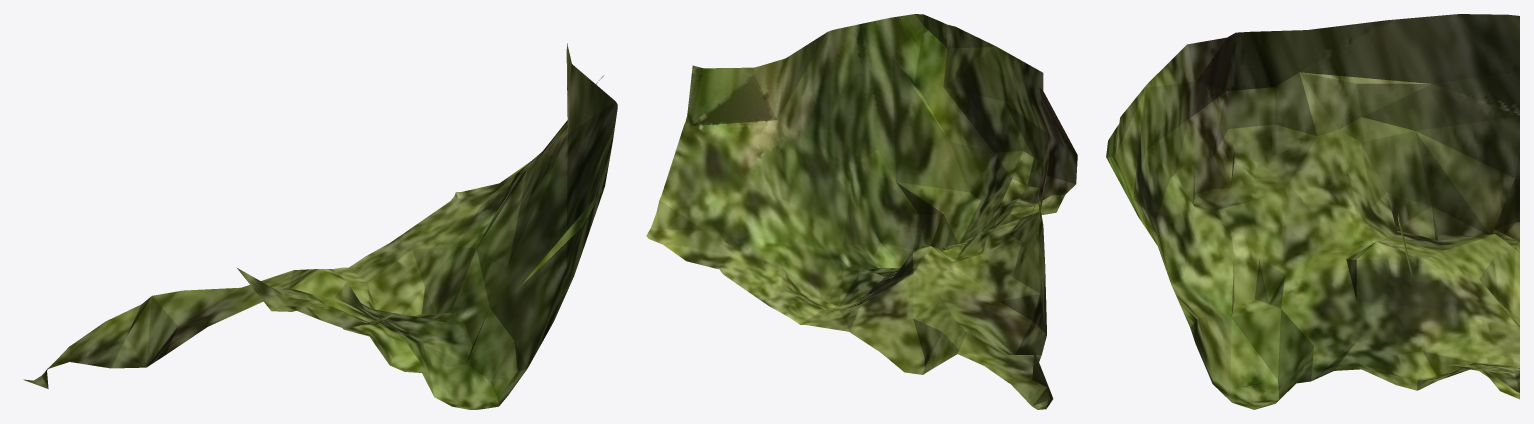
3 views of the same model, side by side, from view 1: azimuth 30°, elevation 25°; view 2: azimuth 150°, elevation 25°; view 3: azimuth 270°, elevation 25° (orthographic). The views are drawn at different scales.
Size of the model in its own units: 2.34 by 1.21 by 1.57.
Materials: 2 (2 with a texture image).
